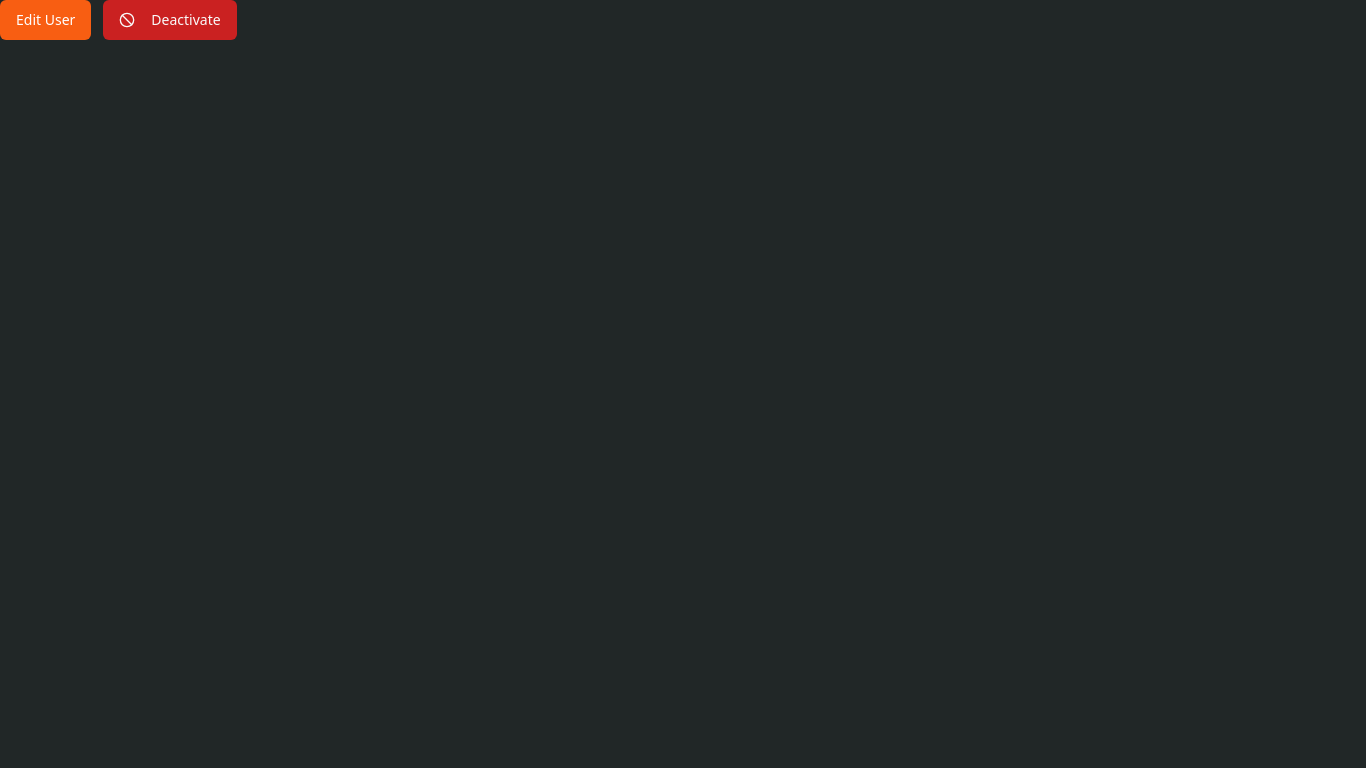
Test case: BackofficeUserActions › opens deactivate dialog when deactivate button is clicked
Click the button "Deactivate" at (170, 20), box [103,0,237,40]
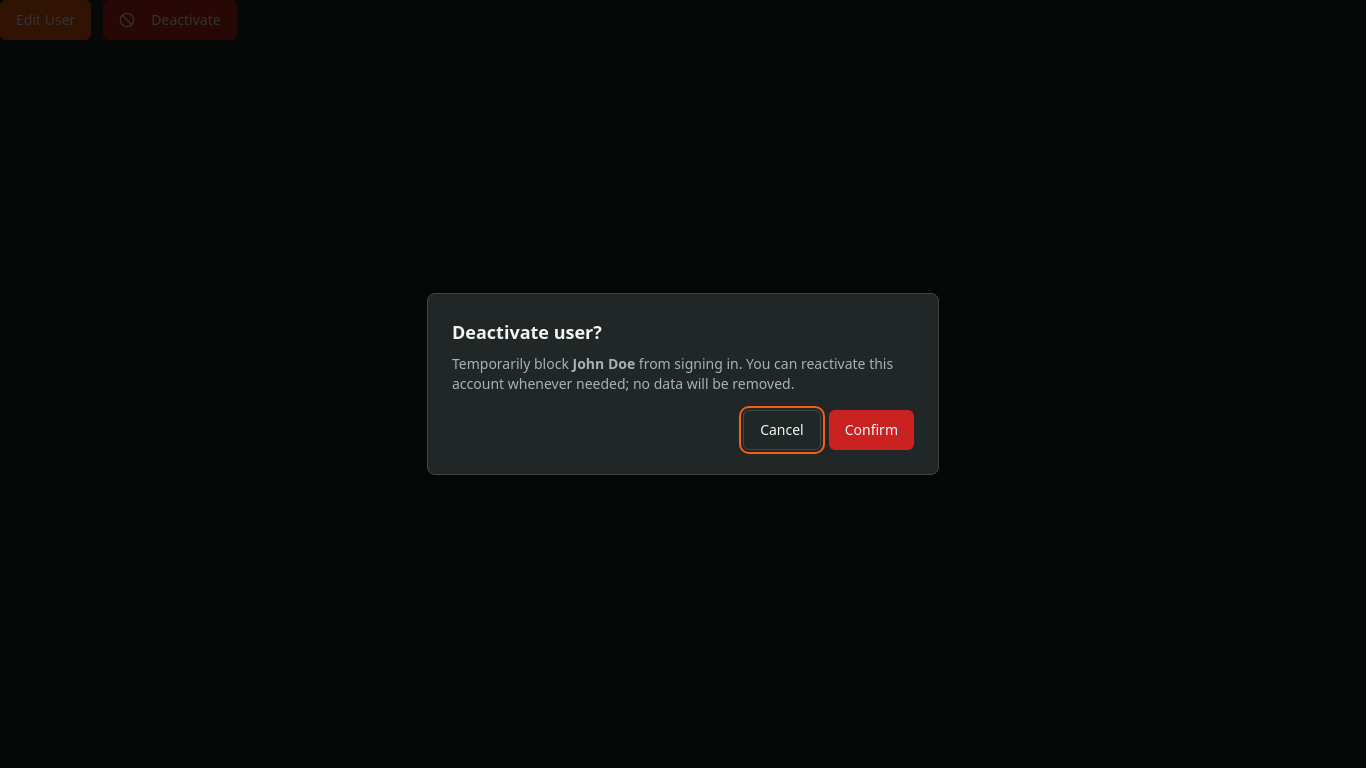
Expected: the heading "Deactivate user?" is shown, [452,320,602,344]
Expected: the text "John Doe" is shown, [572,354,635,373]
